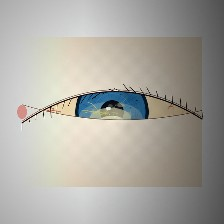corneal_ulcer: (77, 91, 144, 145)
